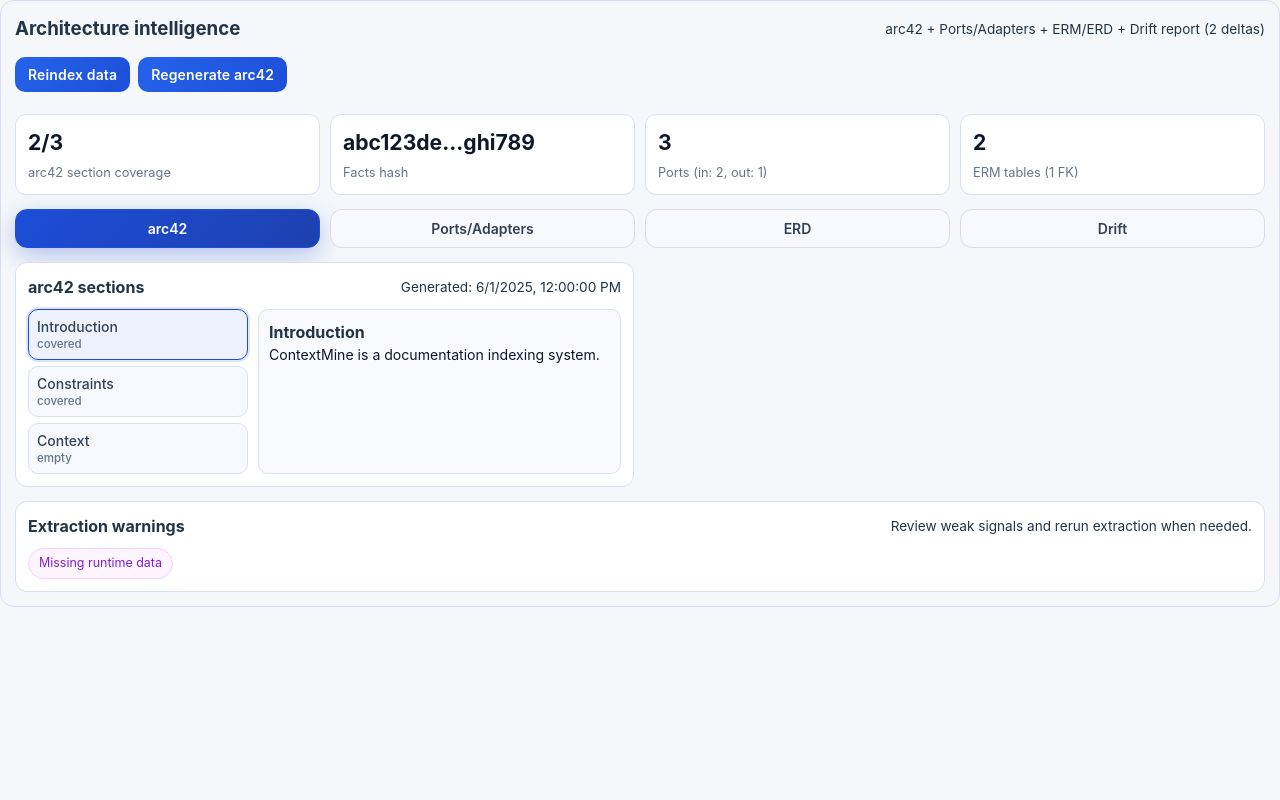
it: ArchitectureView rendering › renders drift report when drift tab is clicked
Step 1. Click the tab "Drift" → (1112, 228), box [960, 209, 1265, 248]
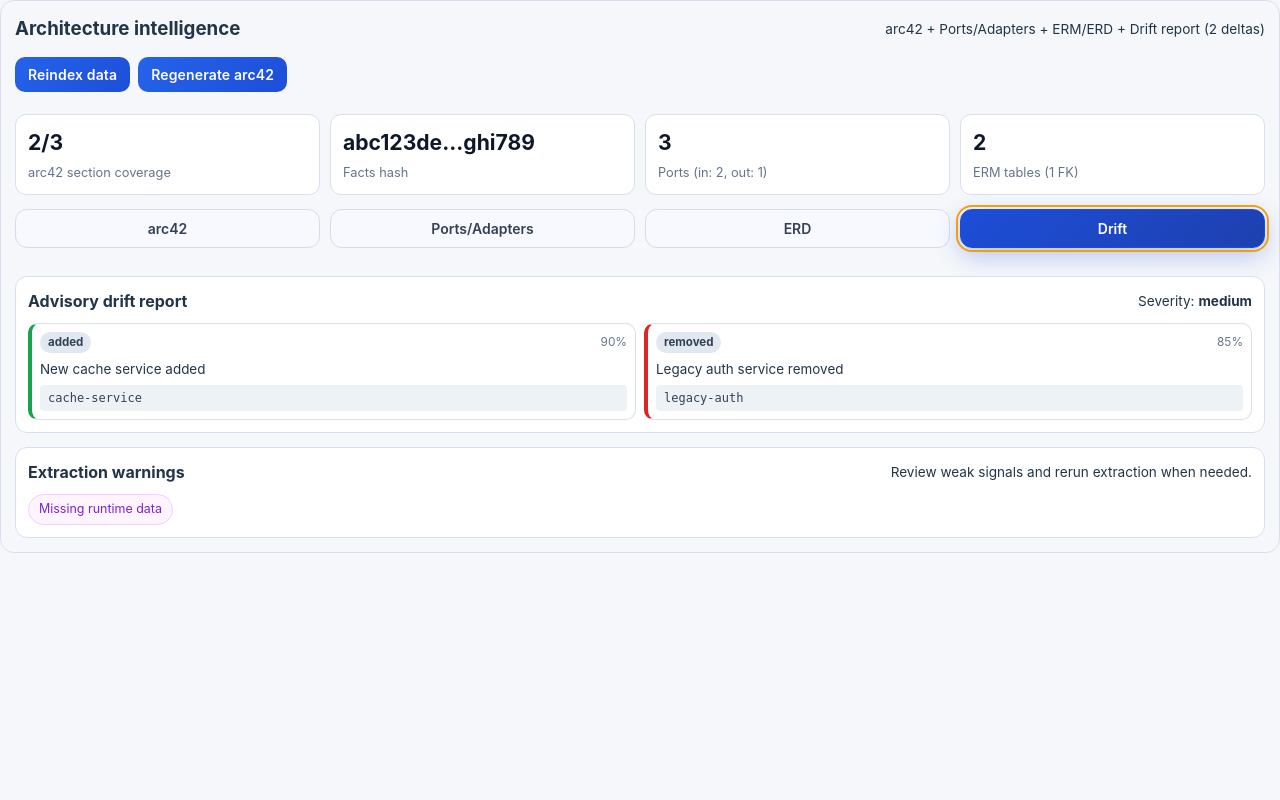
Result: the heading "Advisory drift report" is shown at [28, 289, 187, 313]
